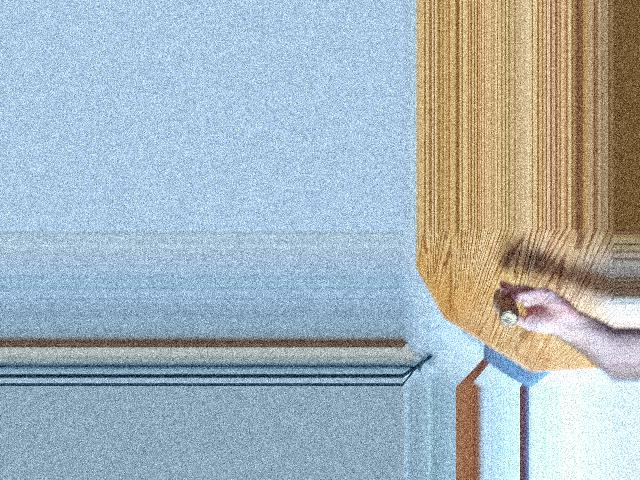sweet_potato: (492, 287, 525, 332)
